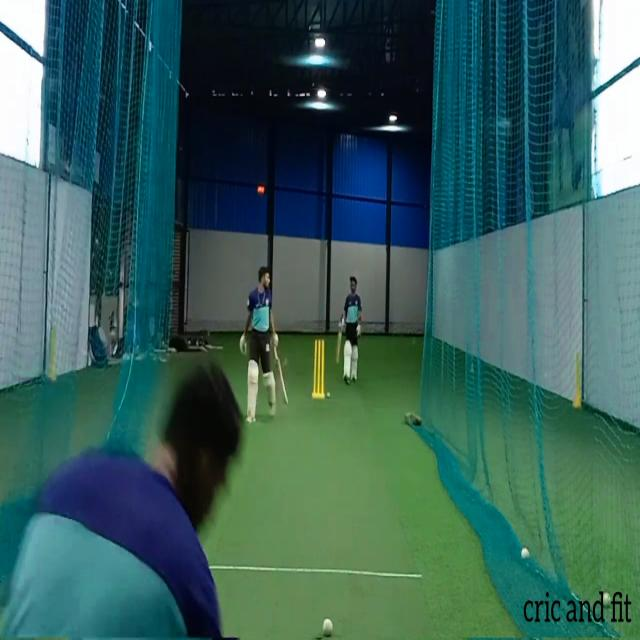batsman: (239, 264, 289, 424)
